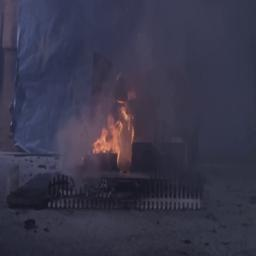fire: (90, 94, 137, 160)
